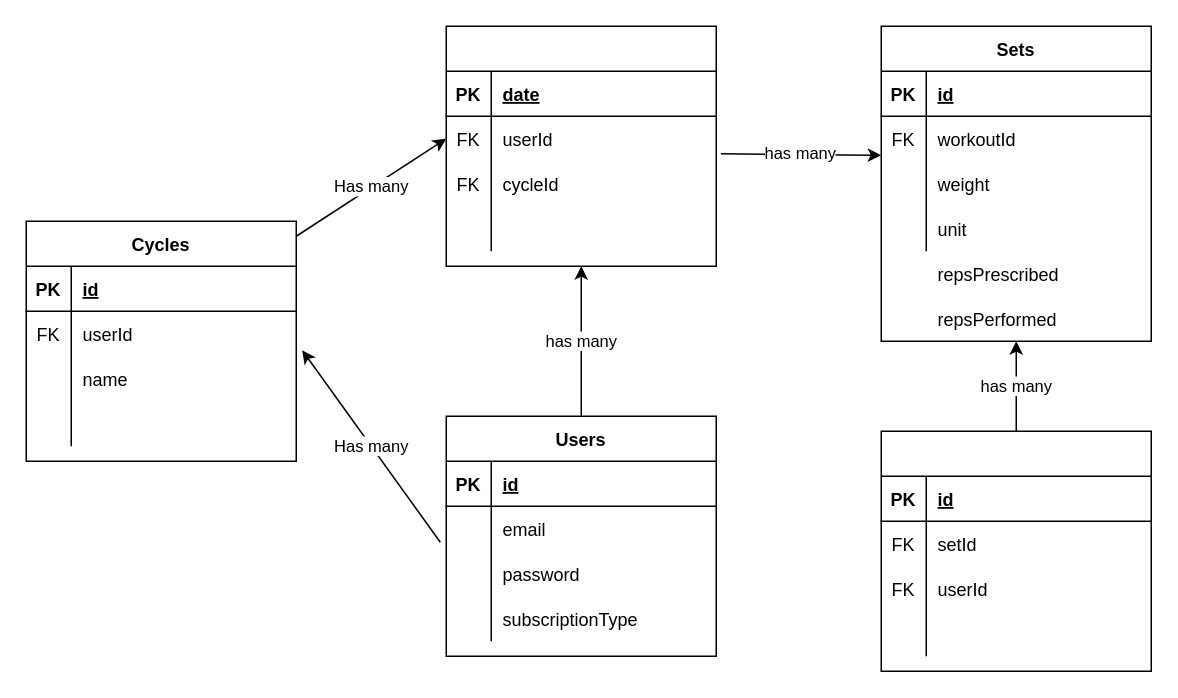
The diagram is 1178 pixels wide and 698 high, and some of its shapes have lost their labels. Here are the shapes that lost their labels. From the top down, the box of each, then its label:
(445, 25, 716, 266): Workouts
(880, 430, 1151, 671): Exercises
